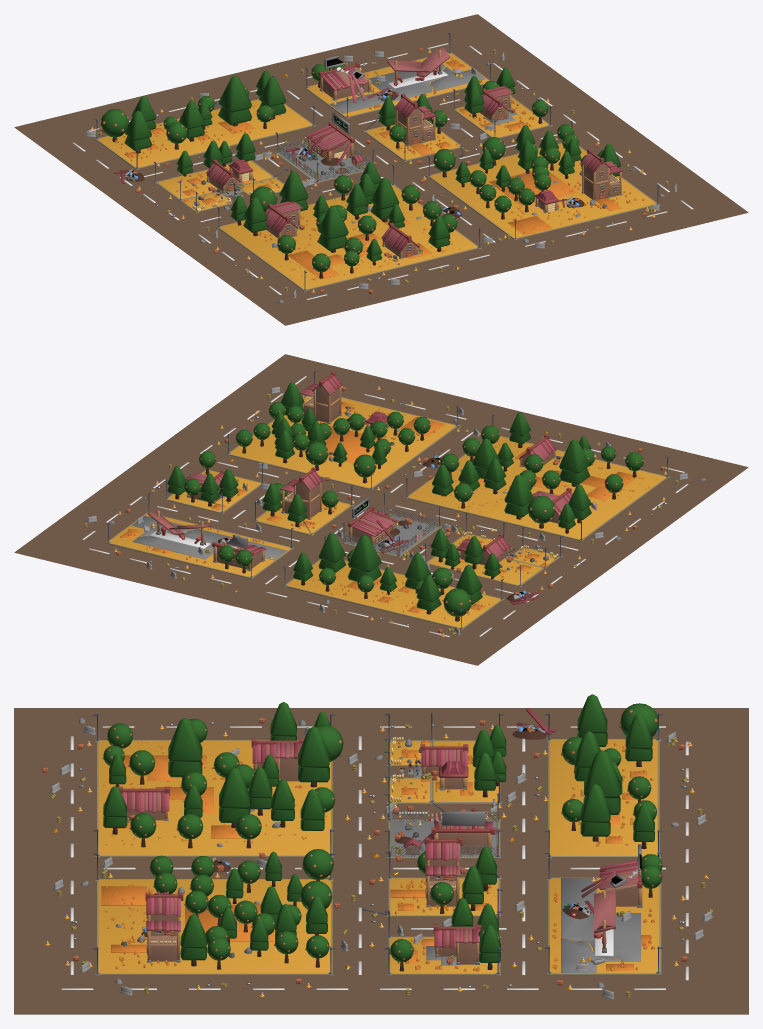
The model's file is Zombie-Pack.fbx.
The picture shows the model from 3 angles, top to bottom: view 1: azimuth 30°, elevation 25°; view 2: azimuth 150°, elevation 25°; view 3: azimuth 270°, elevation 25°; orthographic projection. The views are drawn at different scales.
Visible parts, largest first — view 1: Plane.106, Plane.012, Plane.104, Plane.171, Plane.014, Plane.399, Plane.001, Plane.008, Plane.330, Cube.092, Plane.328, Cube.494 (+15 smaller); view 2: Plane.106, Plane.012, Plane.104, Plane.171, Plane.014, Plane.008, Plane.330, Plane.399, Plane.001, Cube.092, Cube.494, Plane.057 (+17 smaller); view 3: Plane.106, Plane.012, Plane.104, Plane.171, Plane.399, Plane.008, Plane.014, Plane.330, Plane.001, Plane.057, Cube.494, Cube.419 (+40 smaller).
Boxes of the visible parts, x1=… form: Plane.106: x1=14, y1=14, x2=748, y2=325; Plane.012: x1=220, y1=185, x2=477, y2=289; Plane.104: x1=430, y1=143, x2=655, y2=237; Plane.171: x1=98, y1=99, x2=311, y2=167; Plane.014: x1=288, y1=171, x2=576, y2=279; Plane.399: x1=330, y1=64, x2=485, y2=113; Plane.001: x1=158, y1=160, x2=283, y2=210; Plane.008: x1=72, y1=43, x2=693, y2=299; Plane.330: x1=308, y1=53, x2=488, y2=116; Cube.092: x1=218, y1=75, x2=251, y2=125; Plane.328: x1=456, y1=97, x2=548, y2=137; Cube.494: x1=317, y1=205, x2=348, y2=250; Plane.106: x1=14, y1=354, x2=748, y2=665; Plane.012: x1=409, y1=436, x2=665, y2=539; Plane.104: x1=230, y1=396, x2=455, y2=487; Plane.171: x1=287, y1=560, x2=500, y2=627; Plane.014: x1=302, y1=417, x2=637, y2=500; Plane.008: x1=82, y1=376, x2=688, y2=636; Plane.330: x1=109, y1=513, x2=290, y2=576; Plane.399: x1=132, y1=516, x2=286, y2=560; Plane.001: x1=428, y1=534, x2=558, y2=584; Cube.092: x1=348, y1=535, x2=381, y2=581; Cube.494: x1=559, y1=439, x2=589, y2=484; Plane.057: x1=256, y1=501, x2=349, y2=533; Plane.106: x1=14, y1=708, x2=748, y2=1014; Plane.012: x1=98, y1=740, x2=330, y2=855; Plane.104: x1=98, y1=879, x2=330, y2=973; Plane.171: x1=550, y1=739, x2=657, y2=855; Plane.399: x1=561, y1=878, x2=640, y2=972; Plane.008: x1=61, y1=726, x2=688, y2=989; Plane.014: x1=101, y1=755, x2=273, y2=941; Plane.330: x1=550, y1=878, x2=659, y2=973; Plane.001: x1=390, y1=741, x2=498, y2=802; Plane.057: x1=390, y1=878, x2=498, y2=915; Cube.494: x1=168, y1=718, x2=202, y2=777; Cube.419: x1=298, y1=726, x2=329, y2=782.
Size of the model in its own units: 11692 by 1380 by 11846.
